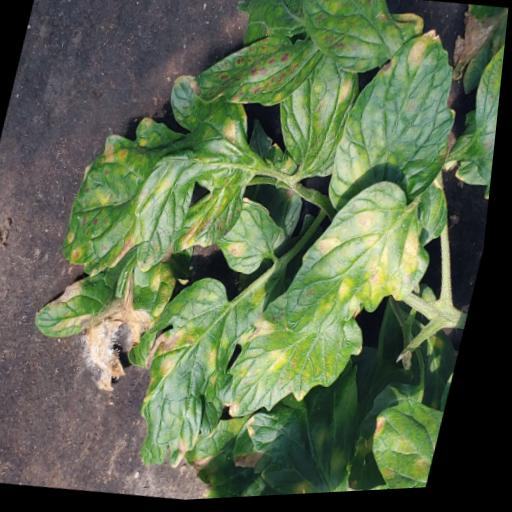Leaf Mold: (58, 61, 276, 297), (109, 268, 276, 481), (238, 345, 451, 501), (324, 19, 479, 228), (283, 172, 454, 354), (227, 288, 380, 435), (33, 230, 190, 360), (266, 50, 370, 184), (185, 26, 330, 121), (282, 0, 433, 88), (442, 28, 508, 207), (366, 396, 456, 495), (213, 194, 302, 282)
